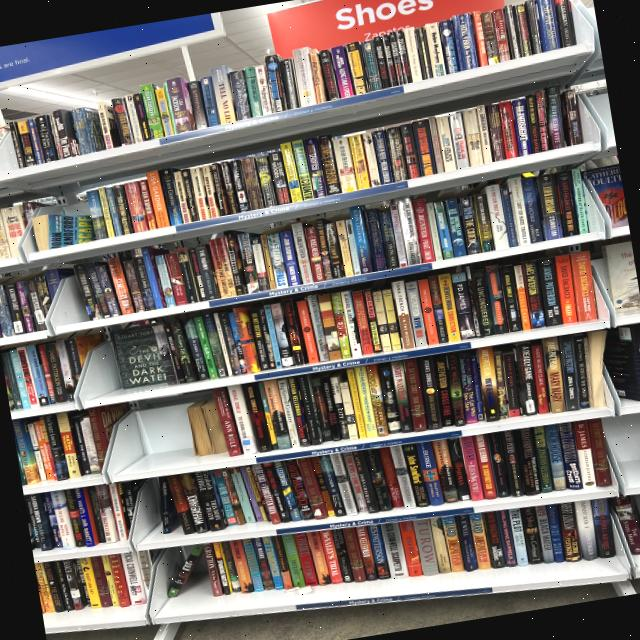book: (157, 318, 211, 385), (389, 196, 434, 267), (172, 165, 221, 224), (30, 557, 75, 618), (220, 156, 265, 215), (226, 383, 260, 456), (191, 468, 229, 533), (399, 198, 436, 264), (210, 387, 244, 458), (23, 492, 61, 553), (346, 367, 378, 439), (166, 542, 206, 599), (362, 447, 396, 513), (243, 383, 275, 453), (296, 456, 329, 521), (228, 465, 263, 525), (263, 379, 292, 451), (200, 312, 231, 379), (272, 532, 307, 591), (259, 533, 294, 591), (340, 40, 376, 96), (166, 473, 198, 536), (9, 346, 40, 411), (230, 155, 265, 212), (570, 251, 598, 322), (284, 458, 315, 522), (27, 418, 58, 482), (166, 473, 198, 535), (536, 257, 564, 327), (351, 449, 381, 514), (556, 336, 582, 411), (363, 288, 393, 353), (536, 173, 565, 240), (297, 375, 324, 446), (515, 428, 543, 496), (233, 306, 261, 374), (23, 344, 53, 407), (180, 471, 210, 534), (239, 234, 271, 293), (402, 443, 431, 508), (416, 440, 444, 507), (483, 184, 511, 251), (273, 460, 302, 524), (318, 454, 347, 518), (403, 358, 428, 432), (432, 438, 460, 504), (449, 272, 476, 340), (253, 463, 282, 526), (11, 421, 40, 484), (208, 236, 237, 299), (514, 343, 539, 416), (55, 412, 82, 479), (477, 347, 501, 422), (286, 376, 311, 448), (506, 177, 532, 246), (557, 422, 583, 491), (305, 293, 331, 362), (553, 255, 579, 324), (469, 268, 495, 337), (182, 318, 210, 382), (553, 171, 580, 237), (459, 436, 486, 502), (419, 356, 443, 430), (444, 353, 468, 427), (105, 184, 139, 236), (498, 265, 524, 333), (181, 166, 212, 223), (140, 247, 168, 310), (349, 205, 374, 275), (484, 264, 509, 334), (50, 489, 78, 551), (444, 355, 468, 427), (269, 302, 295, 368), (472, 434, 498, 500), (317, 294, 343, 360), (391, 279, 415, 350), (153, 324, 180, 387), (613, 494, 640, 557), (282, 298, 307, 366), (295, 299, 321, 364), (380, 522, 409, 580), (210, 65, 238, 125), (437, 273, 461, 343), (378, 364, 402, 434), (277, 378, 301, 448), (391, 361, 414, 434), (41, 342, 68, 404), (193, 316, 219, 380), (573, 420, 597, 489), (291, 531, 320, 588), (412, 518, 440, 577), (206, 162, 236, 217), (486, 432, 511, 498), (217, 310, 242, 376), (456, 195, 483, 256), (379, 446, 405, 509), (309, 377, 334, 442), (331, 135, 359, 193), (107, 256, 134, 316), (316, 134, 342, 196), (500, 351, 524, 418), (329, 292, 353, 359), (522, 261, 546, 328), (521, 177, 545, 244), (501, 430, 525, 497), (544, 337, 565, 413), (119, 258, 148, 313), (375, 33, 404, 88), (252, 536, 281, 591), (93, 186, 123, 239), (588, 418, 611, 487), (342, 452, 368, 513), (433, 355, 455, 427), (224, 230, 248, 296), (228, 538, 256, 594), (293, 532, 321, 588), (452, 12, 479, 70), (120, 180, 149, 234), (120, 551, 149, 605), (58, 558, 87, 612), (340, 290, 363, 358), (573, 501, 599, 561), (351, 290, 375, 355), (435, 439, 459, 504), (279, 141, 304, 203), (544, 424, 567, 491), (193, 244, 220, 301), (447, 438, 471, 502), (145, 170, 171, 229), (591, 498, 616, 559), (531, 427, 554, 493), (405, 281, 428, 347), (304, 136, 328, 199), (328, 45, 356, 99), (292, 47, 317, 107), (457, 353, 478, 424), (94, 263, 121, 318), (200, 164, 227, 219), (509, 98, 534, 157), (212, 468, 237, 527), (418, 279, 440, 346), (489, 350, 510, 420), (472, 192, 496, 253), (557, 502, 581, 563), (118, 93, 146, 145), (281, 533, 307, 589), (346, 134, 372, 190), (383, 126, 409, 182), (318, 529, 344, 585), (131, 256, 157, 312), (174, 246, 199, 304), (558, 89, 583, 147), (248, 308, 271, 371), (534, 0, 561, 53), (449, 437, 471, 502), (95, 99, 123, 150), (428, 275, 449, 343), (167, 78, 192, 135), (221, 469, 246, 526), (520, 506, 544, 565), (482, 511, 506, 570), (159, 167, 183, 226), (365, 208, 387, 272), (573, 334, 592, 408), (389, 29, 414, 85), (401, 26, 426, 82), (307, 530, 332, 586), (320, 376, 341, 442), (413, 119, 437, 176), (303, 225, 327, 282), (331, 528, 355, 585), (441, 516, 465, 573), (258, 382, 278, 450), (444, 199, 467, 258), (496, 509, 519, 568), (64, 489, 87, 548), (469, 512, 492, 571), (89, 555, 114, 609), (435, 355, 454, 426), (398, 123, 422, 179), (266, 233, 290, 289), (333, 219, 356, 277), (108, 483, 131, 541), (455, 514, 478, 572), (23, 279, 49, 330), (227, 311, 248, 374), (544, 86, 565, 149), (424, 22, 448, 77), (531, 344, 550, 413), (435, 115, 458, 172), (322, 222, 345, 279), (164, 252, 188, 306), (279, 231, 302, 287), (265, 54, 287, 112), (157, 476, 179, 534), (371, 129, 394, 184), (356, 526, 379, 581), (154, 253, 177, 308), (368, 525, 391, 580), (109, 553, 132, 608), (257, 307, 277, 370), (338, 380, 359, 440), (430, 517, 452, 574), (448, 112, 470, 169), (141, 81, 163, 138), (198, 76, 222, 128), (228, 69, 252, 121), (382, 288, 402, 350), (499, 186, 519, 248), (330, 375, 349, 440), (571, 167, 589, 235), (425, 201, 445, 262), (318, 48, 341, 101), (486, 103, 507, 161), (498, 101, 519, 159), (438, 19, 460, 74), (546, 504, 566, 564), (361, 131, 382, 188), (278, 58, 301, 110), (202, 543, 224, 597), (370, 35, 392, 89), (475, 105, 495, 164), (533, 90, 552, 152), (307, 47, 328, 103), (502, 4, 523, 60), (110, 97, 134, 146), (86, 189, 109, 240), (255, 155, 277, 208), (535, 505, 555, 563), (491, 8, 512, 62), (15, 280, 36, 334), (5, 282, 26, 336), (243, 65, 264, 118), (524, 95, 543, 153), (123, 94, 145, 144), (554, 0, 577, 47), (480, 10, 500, 64), (131, 92, 153, 141), (253, 64, 274, 115), (137, 179, 158, 230), (187, 79, 208, 130), (471, 10, 490, 66), (513, 4, 533, 57), (427, 116, 445, 173), (524, 0, 543, 54), (469, 354, 484, 421), (188, 81, 208, 131), (345, 218, 362, 276), (15, 120, 36, 166), (155, 88, 175, 136), (26, 118, 46, 165), (8, 121, 27, 168)
